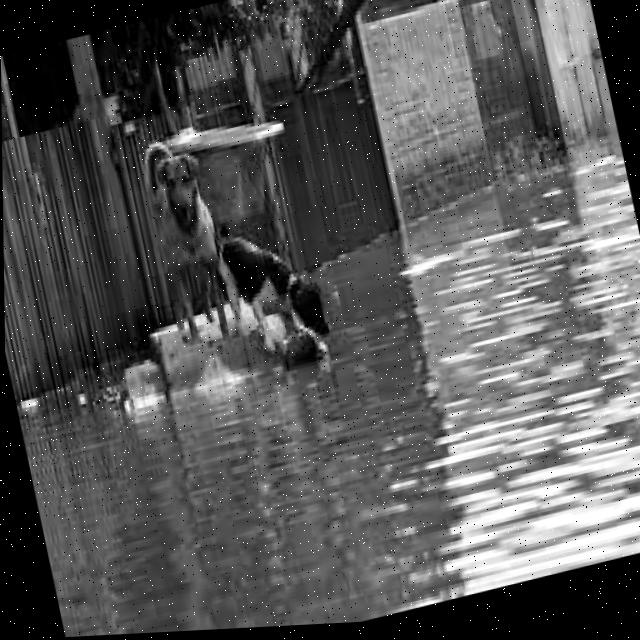dog: (112, 120, 251, 363), (201, 215, 339, 370)
